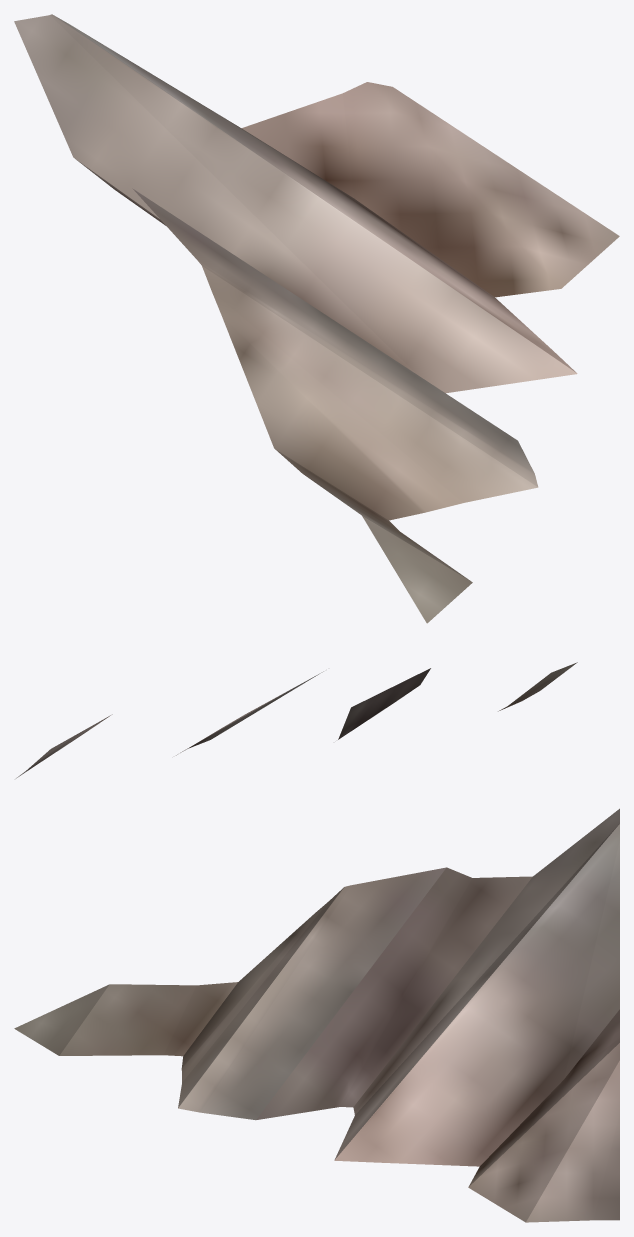
3 views of the same model, one above another, from view 1: azimuth 30°, elevation 25°; view 2: azimuth 150°, elevation 25°; view 3: azimuth 270°, elevation 25° (orthographic). The views are drawn at different scales.
Bounding box in the file's own units: 0.4422 × 0.2341 × 0.5839.
1 material, 1 textured.
